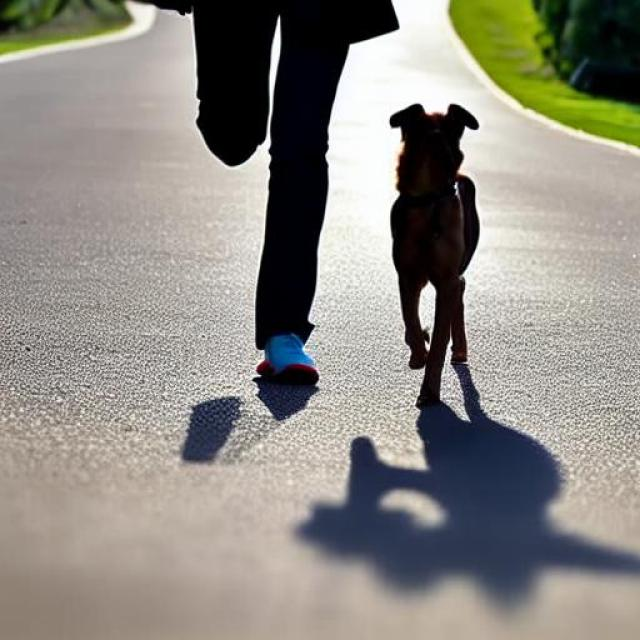Unleashed_Dog: (198, 5, 480, 410)
